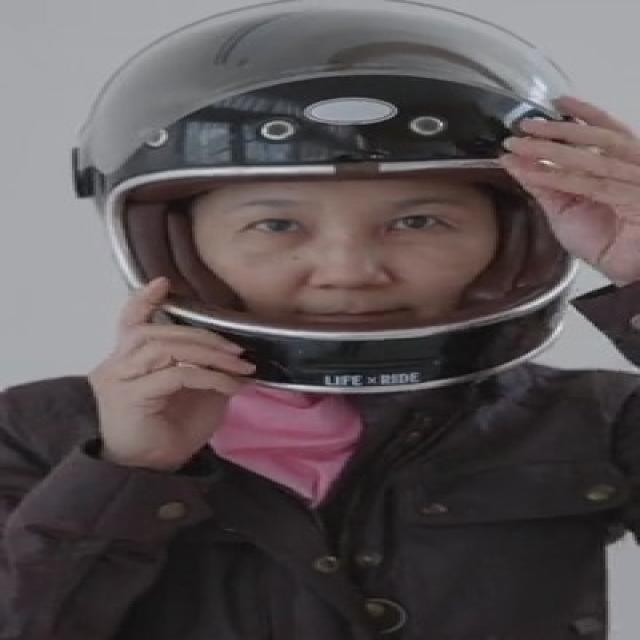Helmet_Wearer: (58, 0, 640, 400)
Person: (5, 0, 640, 640)
